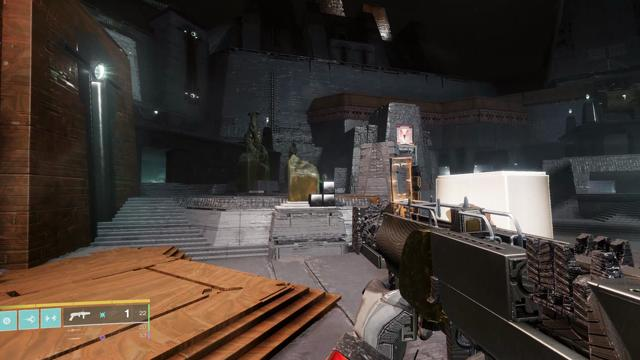give: (399, 129, 410, 141)
